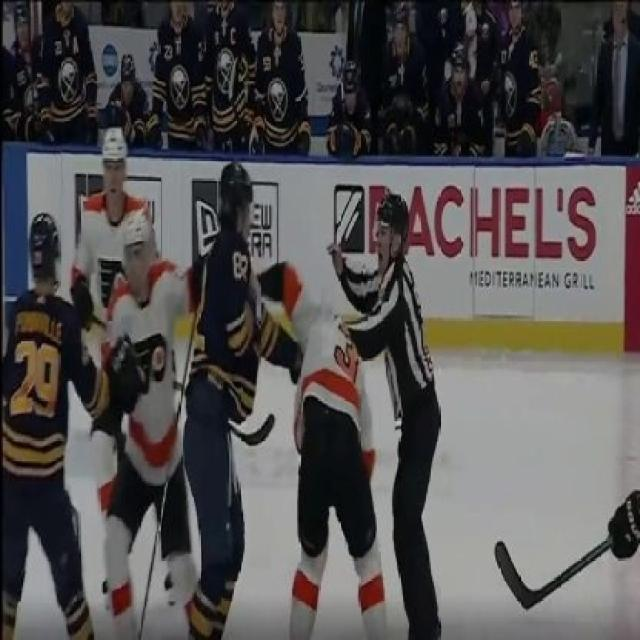fight: (171, 151, 441, 640)
